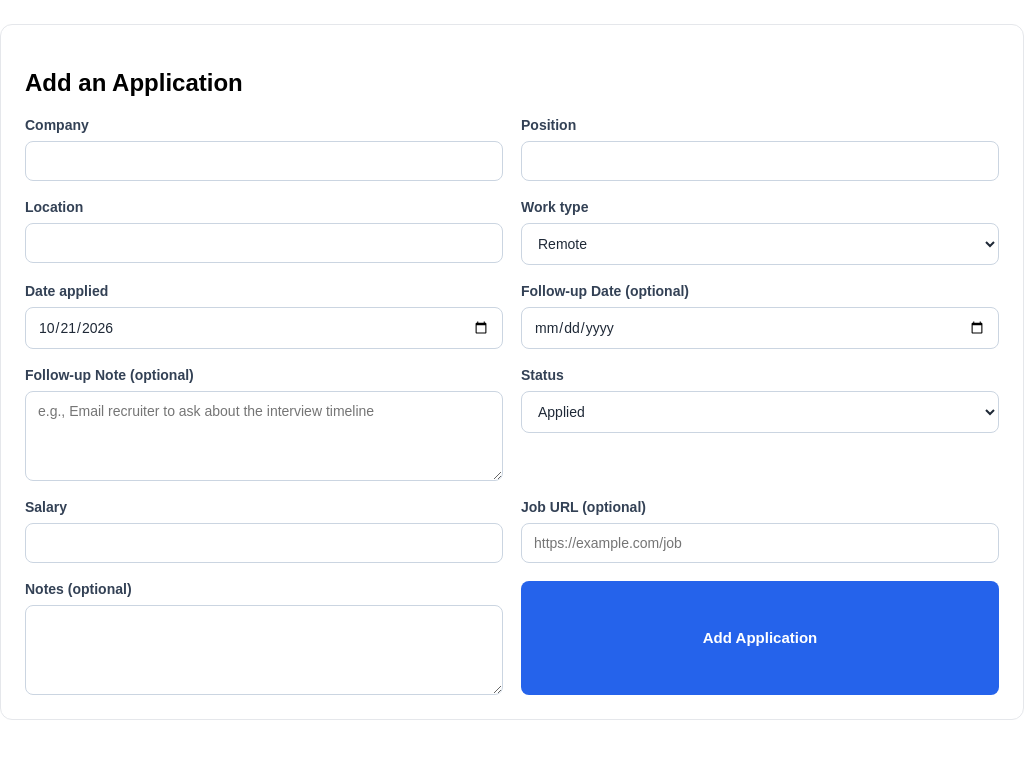
Test: ApplicationForm › shows an error when position is missing
In the field labelled "Company": [264, 161] box [25,141,503,181], type "Example Company"
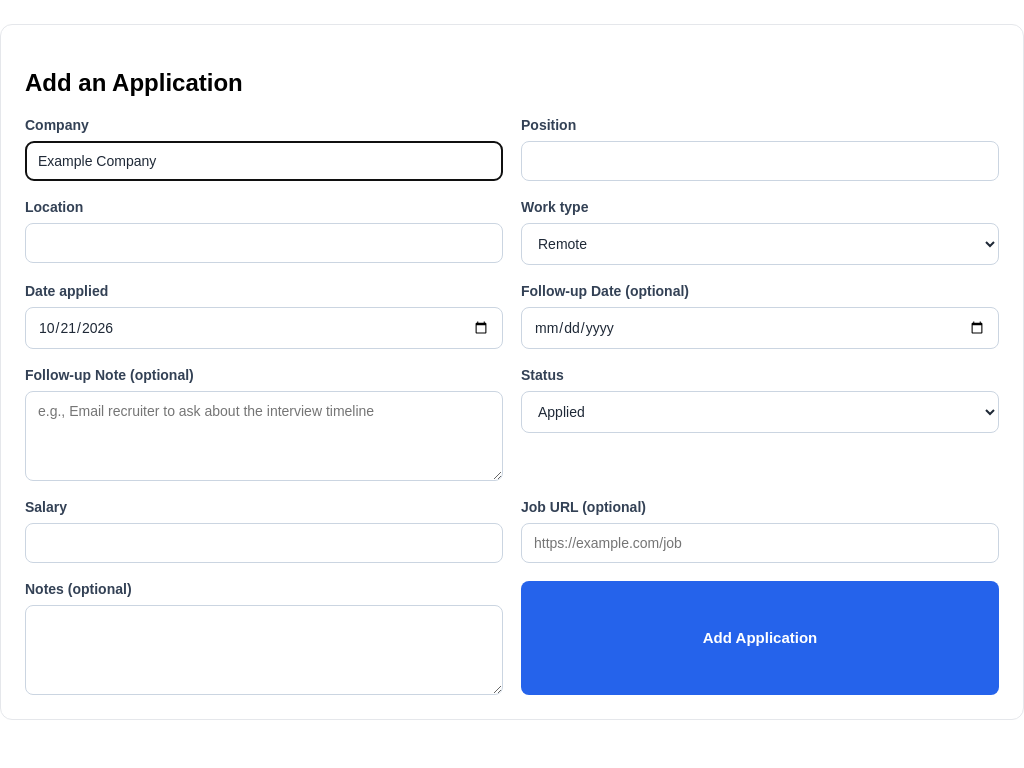
Click the button "Add Application": [760, 638] box [521,581,999,695]
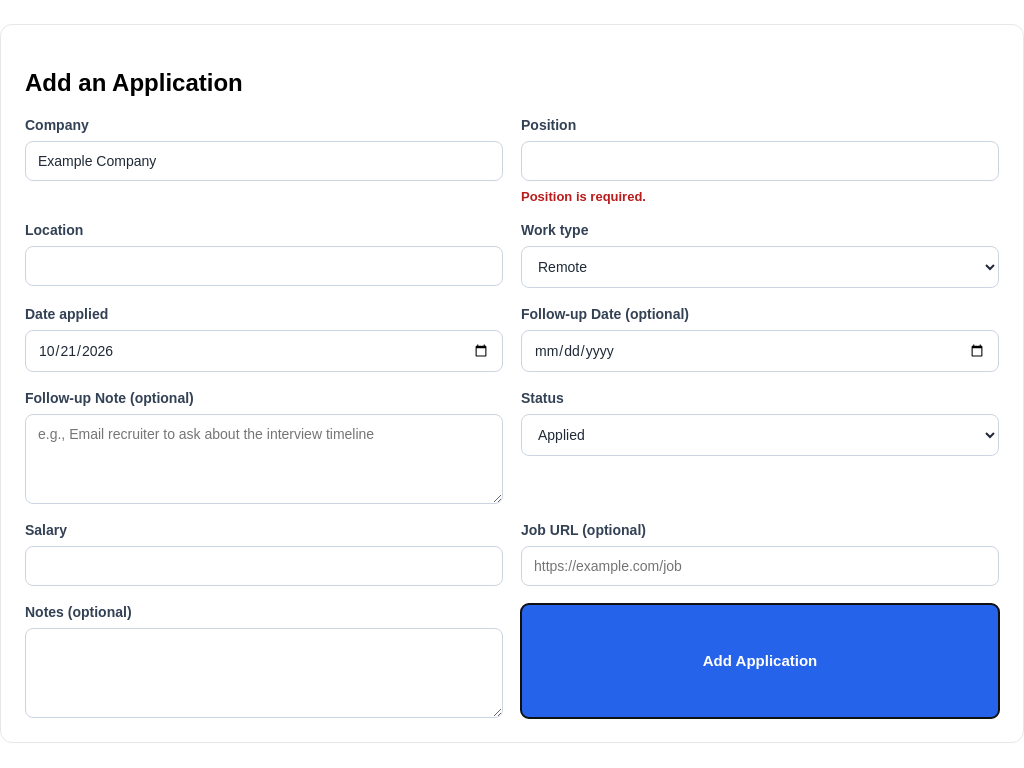
Expected: the text "Position is required." is shown, [521,189,646,204]
